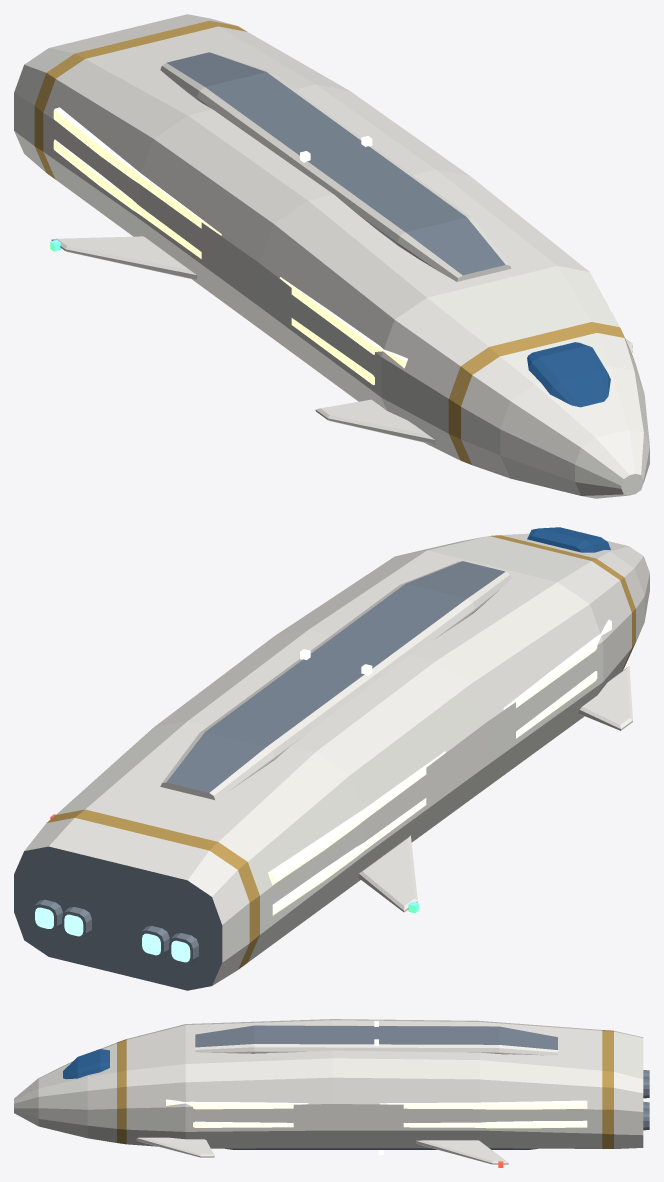
Rendered from orca.glb.
The picture shows the model from 3 angles, top to bottom: view 1: azimuth 30°, elevation 25°; view 2: azimuth 150°, elevation 25°; view 3: azimuth 270°, elevation 25°; orthographic projection. The views are drawn at different scales.
Parts seen in each view (by area): view 1: orca; view 2: orca; view 3: orca.
Part boxes in pixels (<box>): orca: <box>14,14,649,498</box>; orca: <box>14,527,649,990</box>; orca: <box>14,1019,649,1167</box>.
Size of the model in its own units: 52.6 by 24.3 by 130.
